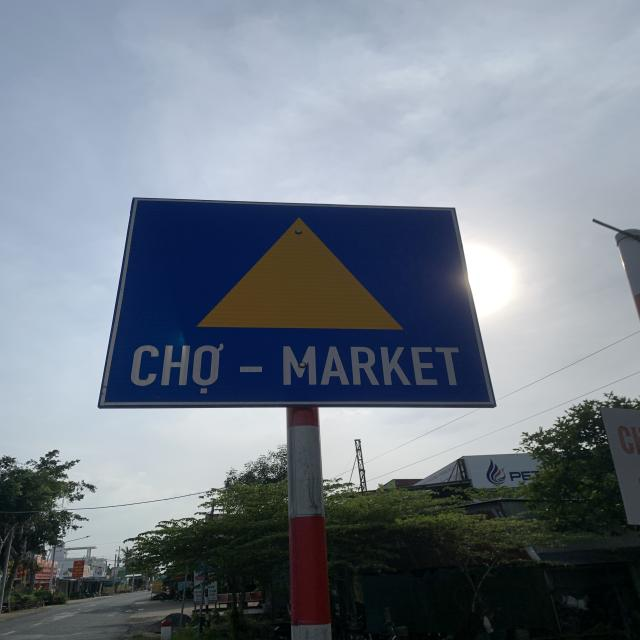Cho_Quay_Xe: (97, 195, 500, 409)
